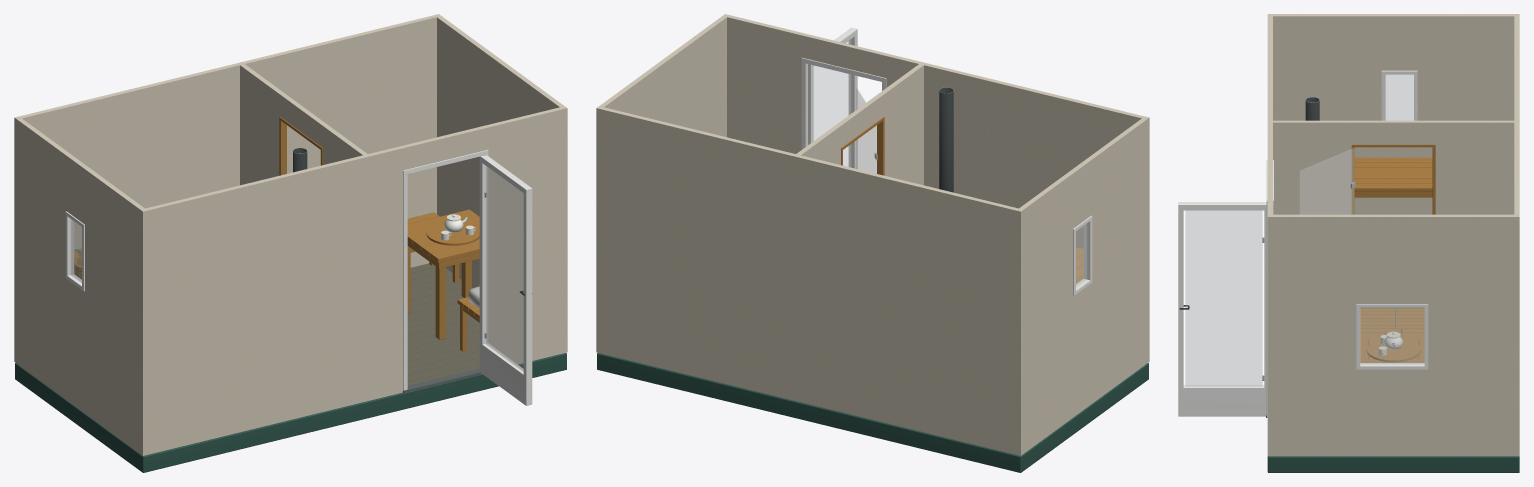
The picture shows the model from 3 angles, left to right: view 1: azimuth 30°, elevation 25°; view 2: azimuth 150°, elevation 25°; view 3: azimuth 270°, elevation 25°; orthographic projection. The views are drawn at different scales.
Parts seen in each view (by area): view 1: Wall front band 2, Wall front band 7, Wall rear band 7, Wall front band 4, Wall front band 5, Wall front band 6, Wall front band 8, Wall front band 1, Wall rear band 8, Wall rear band 6, Foundation, Wall rear band 5 (+31 smaller); view 2: Wall rear band 2, Wall rear band 6, Wall rear band 4, Wall rear band 5, Wall rear band 7, Wall rear band 1, Wall rear band 8, Wall front band 8, Foundation, Wall front band 7, Wall front band 6, Wall rear band 0 (+24 smaller); view 3: Single PVC glass panel, Wall right band 2, Wall right band 7, Wall left band 7, Wall right band 6, Wall right band 1, Wall left band 6, Wall right band 8, Wall top_1_0003 band 8, Wall right band 4, Wall left band 8, Wall right band 5 (+30 smaller).
Boxes of the visible parts, x1=… form: Wall front band 2: x1=140, y1=269, x2=567, y2=409; Wall front band 7: x1=140, y1=130, x2=567, y2=266; Wall rear band 7: x1=14, y1=39, x2=436, y2=174; Wall front band 4: x1=140, y1=230, x2=567, y2=366; Wall front band 5: x1=140, y1=197, x2=567, y2=333; Wall front band 6: x1=140, y1=163, x2=567, y2=300; Wall front band 8: x1=140, y1=106, x2=567, y2=233; Wall front band 1: x1=140, y1=306, x2=567, y2=440; Wall rear band 8: x1=14, y1=14, x2=440, y2=141; Wall rear band 6: x1=14, y1=72, x2=436, y2=207; Foundation: x1=15, y1=353, x2=566, y2=472; Wall rear band 5: x1=14, y1=106, x2=436, y2=241; Wall rear band 2: x1=596, y1=269, x2=1023, y2=409; Wall rear band 6: x1=596, y1=163, x2=1023, y2=300; Wall rear band 4: x1=596, y1=230, x2=1023, y2=366; Wall rear band 5: x1=596, y1=197, x2=1023, y2=333; Wall rear band 7: x1=596, y1=130, x2=1023, y2=266; Wall rear band 1: x1=596, y1=306, x2=1023, y2=440; Wall rear band 8: x1=596, y1=106, x2=1023, y2=233; Wall front band 8: x1=723, y1=14, x2=1149, y2=141; Foundation: x1=597, y1=353, x2=1148, y2=472; Wall front band 7: x1=727, y1=39, x2=1149, y2=174; Wall front band 6: x1=727, y1=72, x2=1149, y2=207; Wall rear band 0: x1=596, y1=337, x2=1023, y2=455; Single PVC glass panel: x1=1185, y1=210, x2=1262, y2=386; Wall right band 2: x1=1273, y1=374, x2=1514, y2=410; Wall right band 7: x1=1273, y1=238, x2=1514, y2=271; Wall left band 7: x1=1273, y1=38, x2=1514, y2=70; Wall right band 6: x1=1273, y1=271, x2=1514, y2=303; Wall right band 1: x1=1273, y1=410, x2=1514, y2=441; Wall left band 6: x1=1273, y1=70, x2=1514, y2=103; Wall right band 8: x1=1273, y1=214, x2=1514, y2=238; Wall top_1_0003 band 8: x1=1273, y1=120, x2=1514, y2=144; Wall right band 4: x1=1273, y1=336, x2=1514, y2=369; Wall left band 8: x1=1273, y1=14, x2=1514, y2=37; Wall right band 5: x1=1273, y1=304, x2=1514, y2=336.
Bounding box in the file's own units: 4.02 × 2.36 × 2.84.
Materials: 33 (14 with a texture image).
